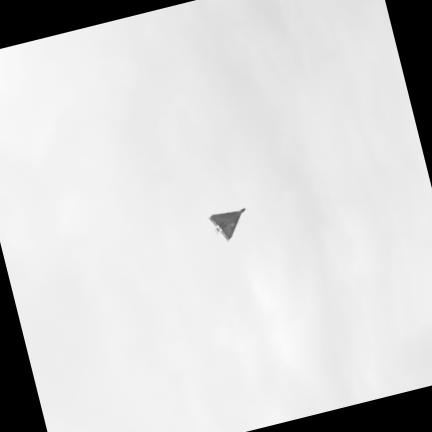Shahed: (209, 208, 244, 239)
